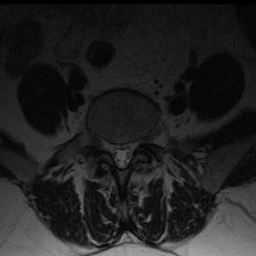CCS_normal: (117, 133, 126, 176)
LFS_normal: (133, 125, 144, 153)
LLS_normal: (125, 133, 133, 168)
RFS_normal: (99, 127, 109, 158)
RLS_normal: (108, 133, 116, 166)
